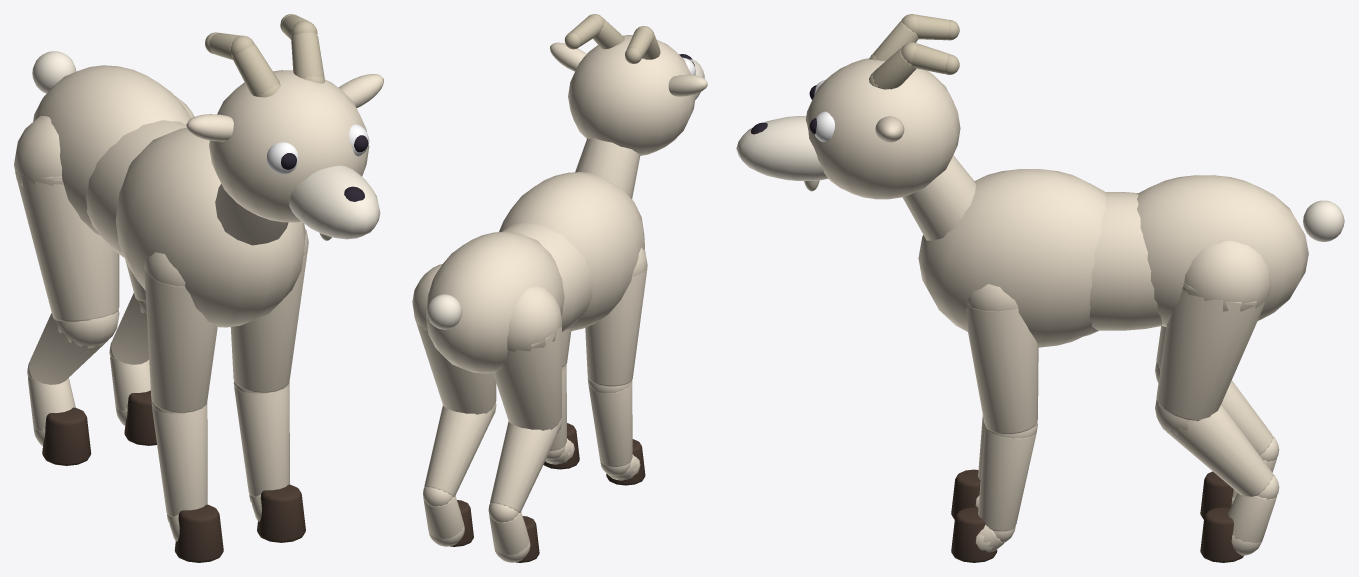
Rendered from goat.glb.
3 views of the same model, side by side, from view 1: azimuth 30°, elevation 25°; view 2: azimuth 150°, elevation 25°; view 3: azimuth 270°, elevation 25° (orthographic). The views are drawn at different scales.
Parts seen in each view (by area): view 1: goat; view 2: goat; view 3: goat.
Part boxes in pixels (<box>): goat: <box>14,14,383,562</box>; goat: <box>412,14,707,562</box>; goat: <box>736,14,1344,562</box>.
Size of the model in its own units: 0.5686 by 1.5 by 1.64.
